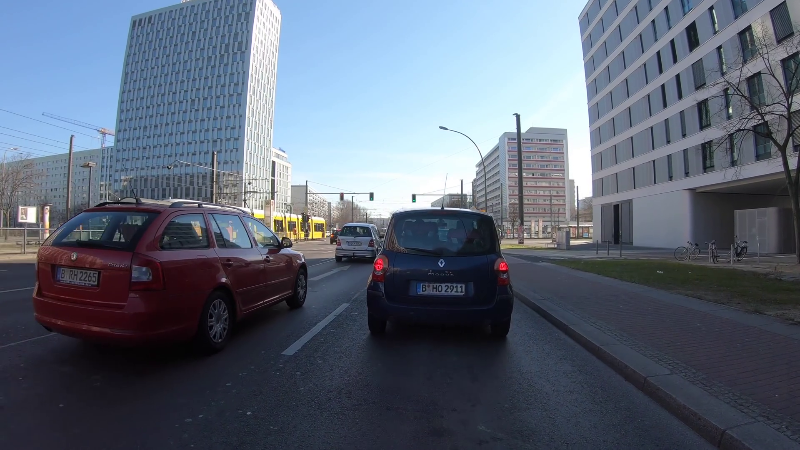Plate: (55, 265, 101, 288), (415, 282, 466, 297), (346, 240, 363, 248)
